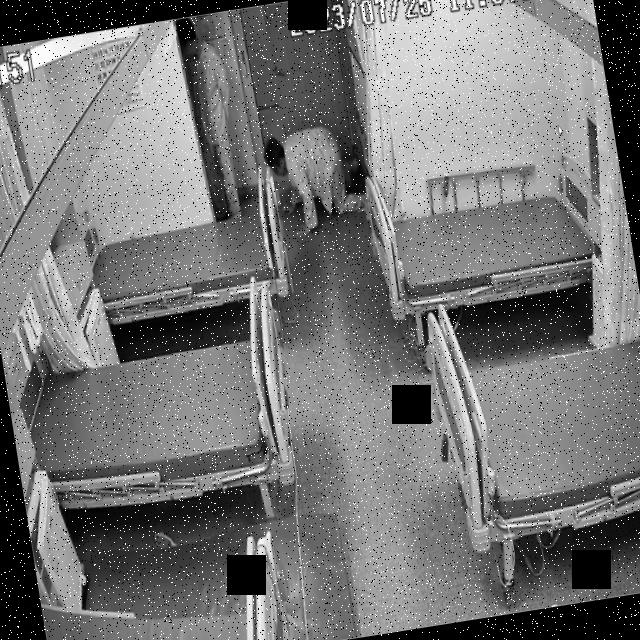bed: (419, 274, 640, 550), (18, 324, 302, 516), (364, 168, 614, 322), (88, 198, 290, 324)
fall: (264, 116, 377, 232)
patient: (173, 13, 243, 222), (265, 121, 378, 238)
stand: (174, 13, 242, 220)
